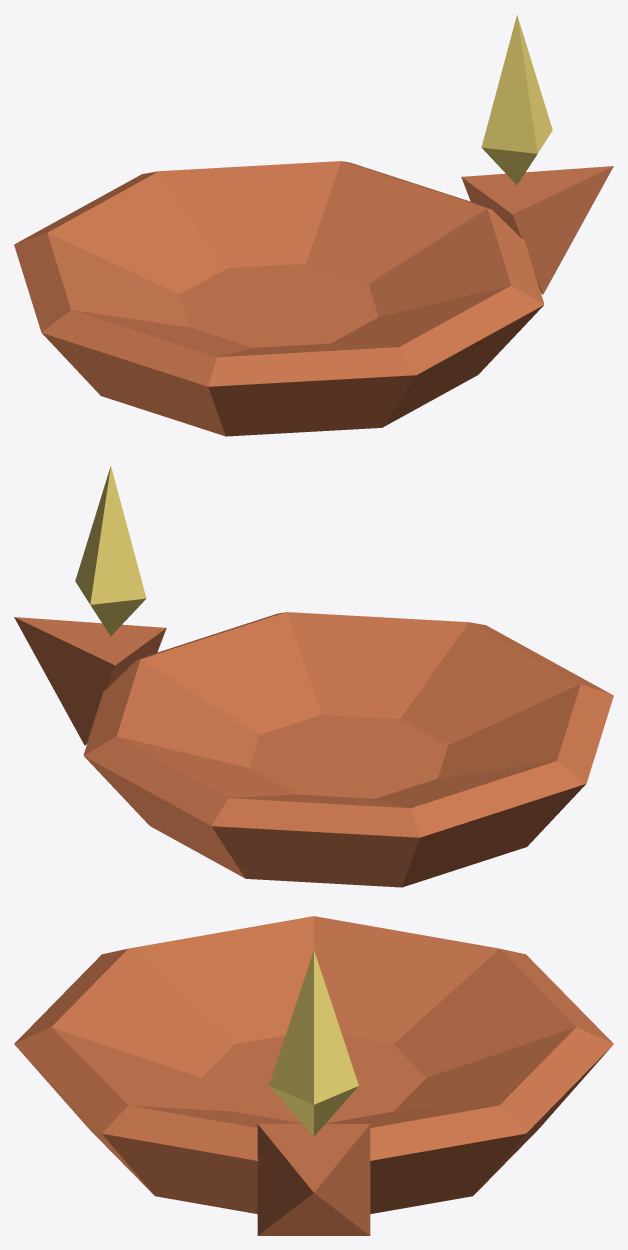
File: DiyaLamp.fbx
The picture shows the model from 3 angles, top to bottom: view 1: azimuth 30°, elevation 25°; view 2: azimuth 150°, elevation 25°; view 3: azimuth 270°, elevation 25°; orthographic projection. The views are drawn at different scales.
Visible parts, largest first — view 1: DiyaLamp; view 2: DiyaLamp; view 3: DiyaLamp.
Part boxes in pixels (<box>): DiyaLamp: <box>14,15,613,436</box>; DiyaLamp: <box>14,466,613,887</box>; DiyaLamp: <box>14,916,613,1235</box>.
Bounding box in the file's own units: 1.93 × 1 × 1.6.
1 material, 1 textured.
